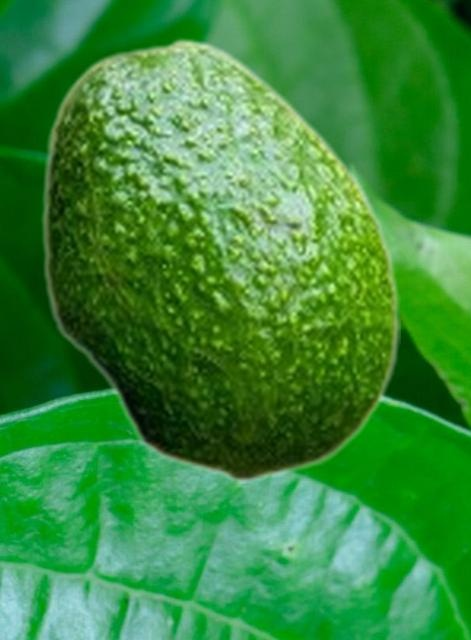avocado: (39, 36, 399, 482)
